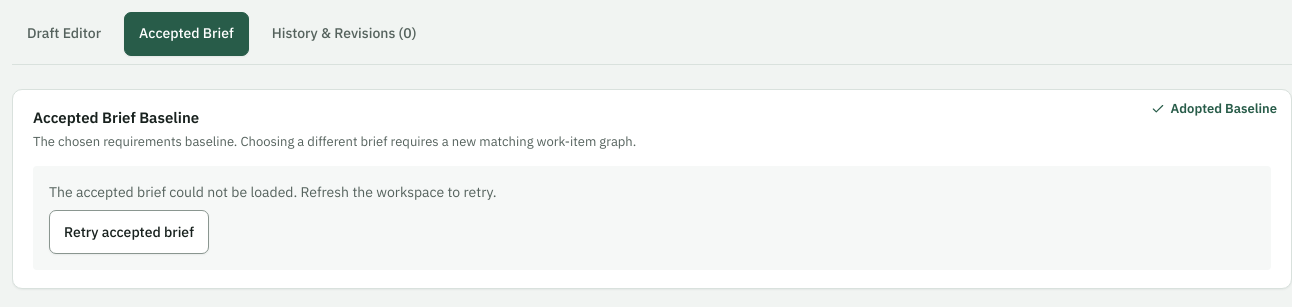
BriefEditor › failed history loading is distinct from having no saved revisions
Click the button "History & Revisions (0)". click: (344,34)
box: 257,12 -> 432,56
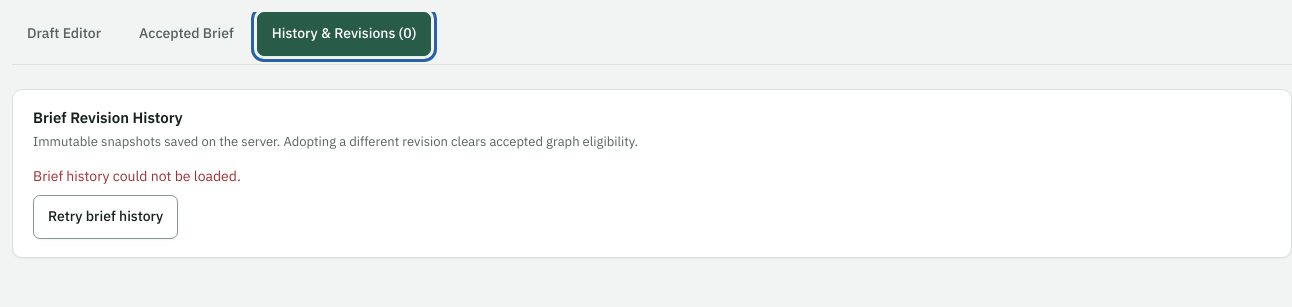
Check: the button "Retry brief history" is enabled, box 33,195 -> 178,239
Check: the text "Brief history could not be loaded." is shown, box 33,167 -> 241,185
